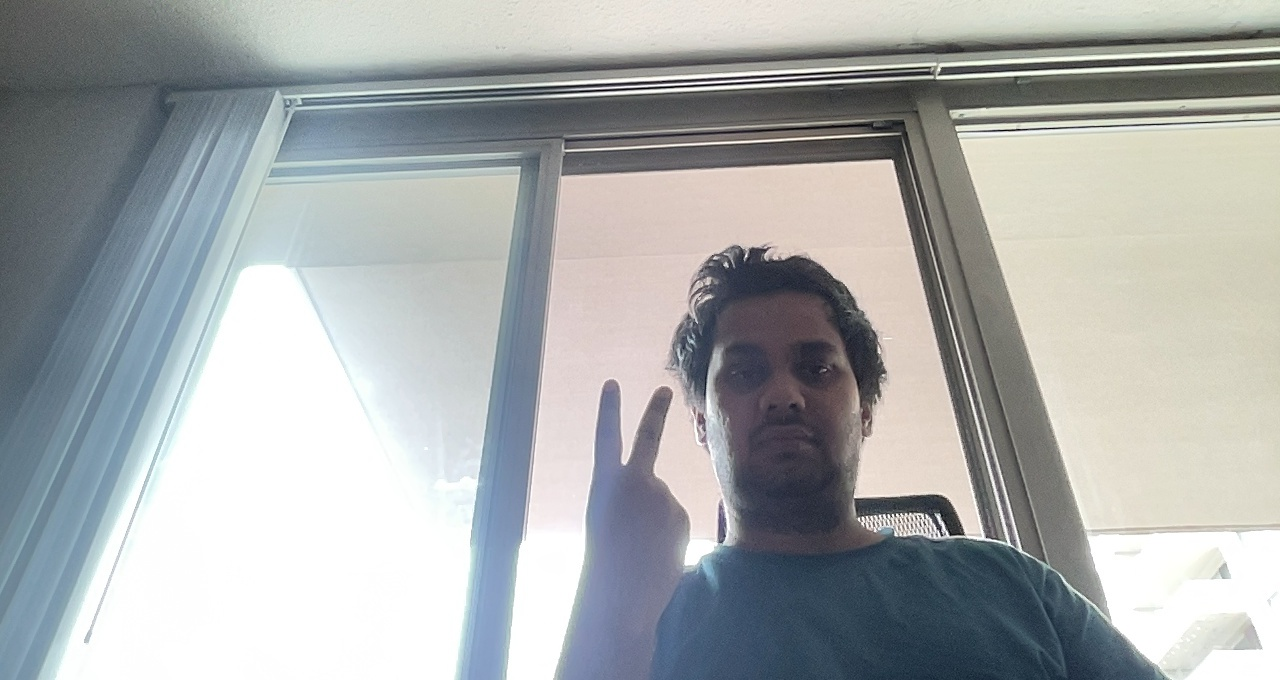peace sign: (560, 370, 702, 605)
